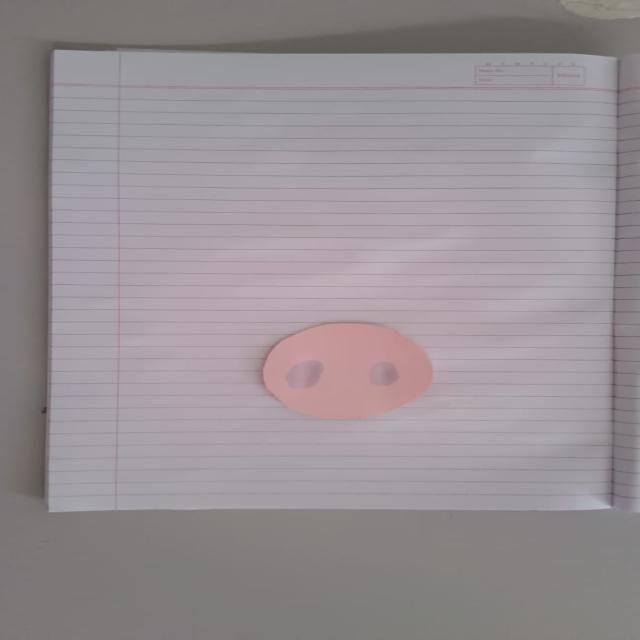BlueColor: (285, 361, 323, 389), (369, 362, 399, 386)
